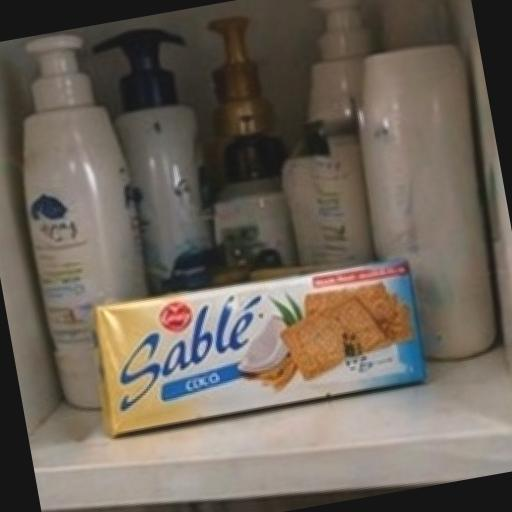sabl: (50, 179, 494, 512)
